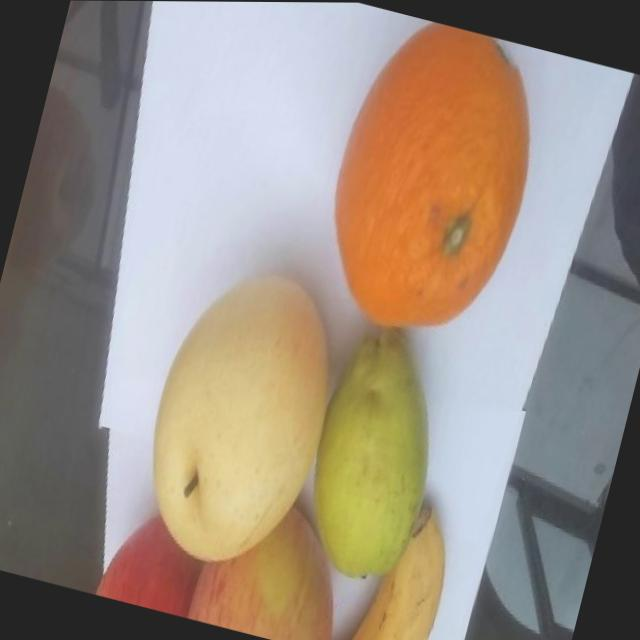Apple: (185, 485, 362, 640), (94, 504, 211, 618)
Banana: (332, 489, 461, 640)
Orange: (303, 7, 558, 353)
